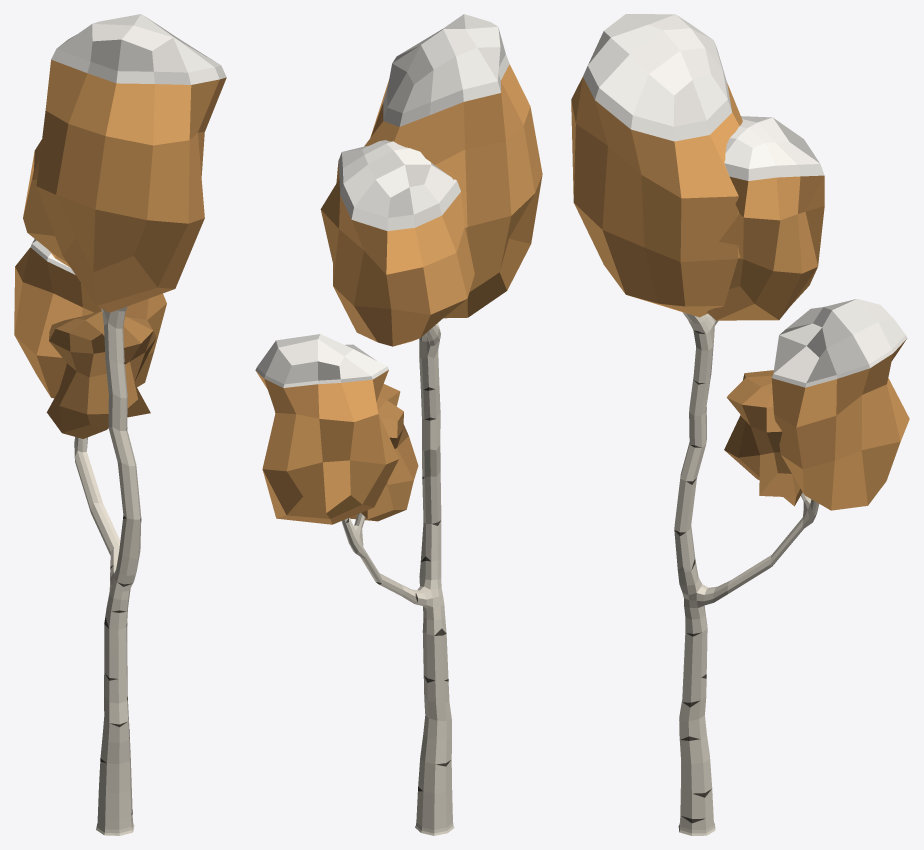
File: BirchTree_Snow_5.glb
3 views of the same model, side by side, from view 1: azimuth 30°, elevation 25°; view 2: azimuth 150°, elevation 25°; view 3: azimuth 270°, elevation 25° (orthographic). The views are drawn at different scales.
Parts seen in each view (by area): view 1: BirchTree_Snow_5; view 2: BirchTree_Snow_5; view 3: BirchTree_Snow_5.
Part boxes in pixels (x1,y1,x2,y2): BirchTree_Snow_5: [14, 14, 226, 835]; BirchTree_Snow_5: [255, 14, 542, 835]; BirchTree_Snow_5: [571, 14, 909, 835].
Bounding box in the file's own units: 1.19 × 5.06 × 1.93.
